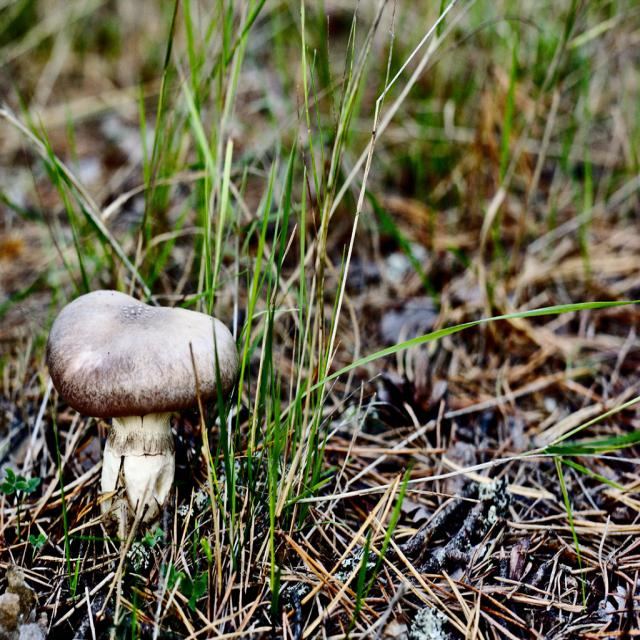Mushroom: (32, 283, 224, 549)
